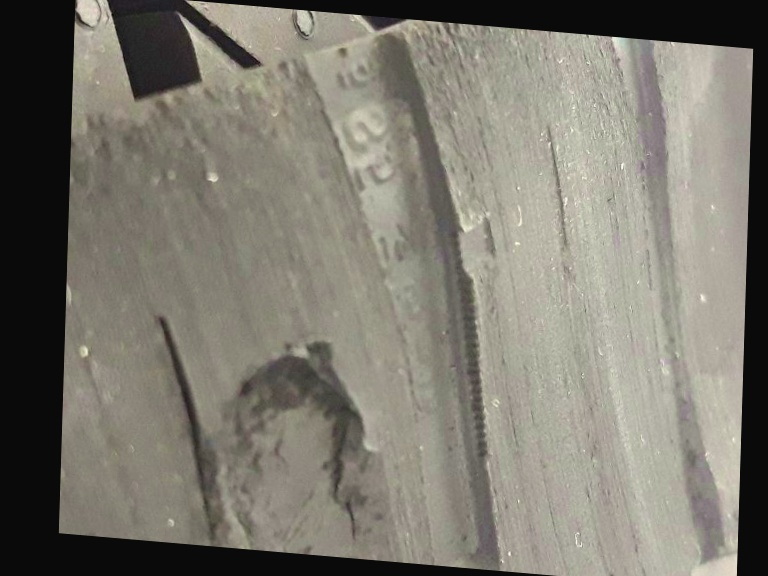temoin:0: (441, 203, 511, 301)
